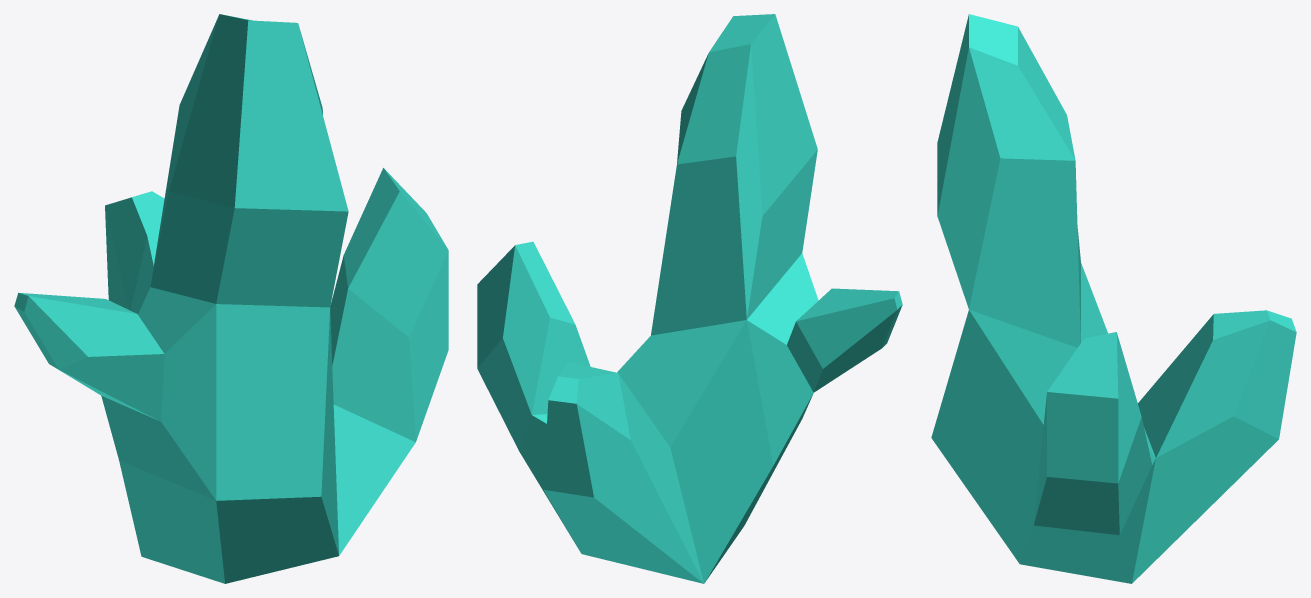
The model's file is Crystal_1.fbx.
3 views of the same model, side by side, from view 1: azimuth 30°, elevation 25°; view 2: azimuth 150°, elevation 25°; view 3: azimuth 270°, elevation 25° (orthographic). The views are drawn at different scales.
Parts seen in each view (by area): view 1: pCube1; view 2: pCube1; view 3: pCube1.
Part boxes in pixels (left/top/right/bottom): pCube1: left=14, top=14, right=448, bottom=583; pCube1: left=477, top=14, right=902, bottom=583; pCube1: left=931, top=14, right=1296, bottom=583.
Size of the model in its own units: 4 by 5.06 by 3.26.
